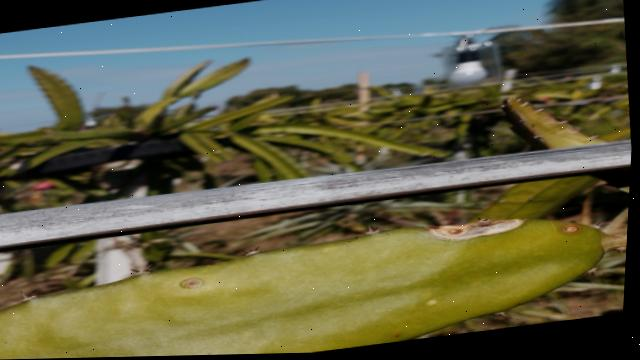stemcanker: (174, 273, 212, 293), (550, 218, 587, 237)
